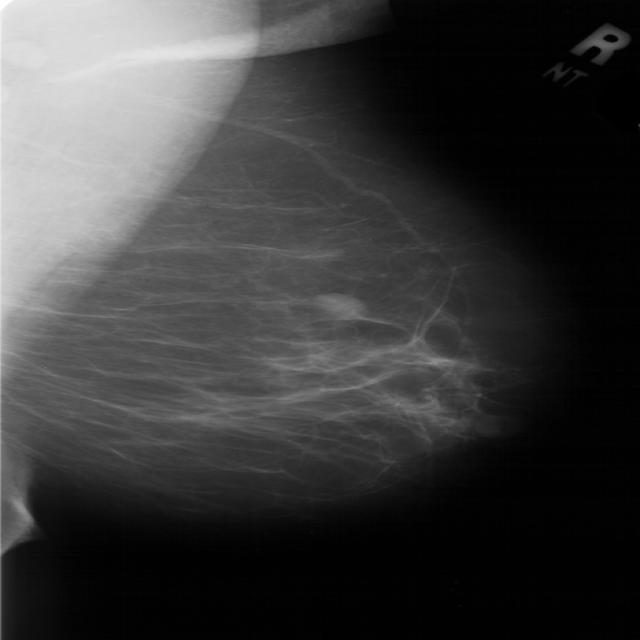tumour: (310, 291, 363, 320)
